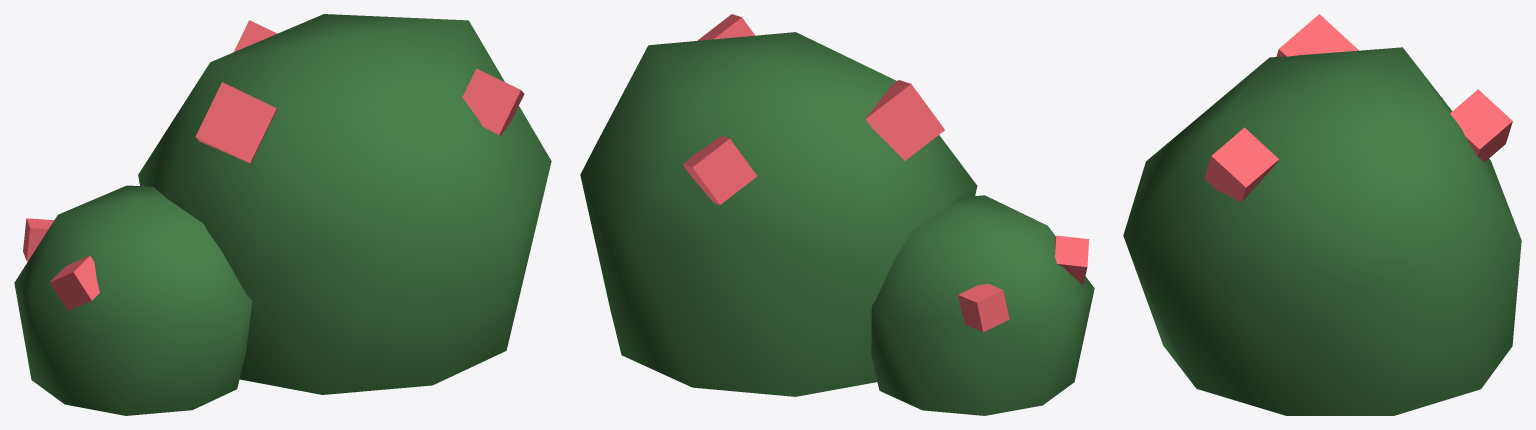
The model's file is Bush.fbx.
The picture shows the model from 3 angles, left to right: view 1: azimuth 30°, elevation 25°; view 2: azimuth 150°, elevation 25°; view 3: azimuth 270°, elevation 25°; orthographic projection. The views are drawn at different scales.
Visible parts, largest first — view 1: Bush; view 2: Bush; view 3: Bush.
Part boxes in pixels (bbox=[...]): Bush: bbox=[14, 14, 551, 415]; Bush: bbox=[580, 14, 1094, 415]; Bush: bbox=[1123, 14, 1521, 415].
Bounding box in the file's own units: 165 × 88.18 × 117.
